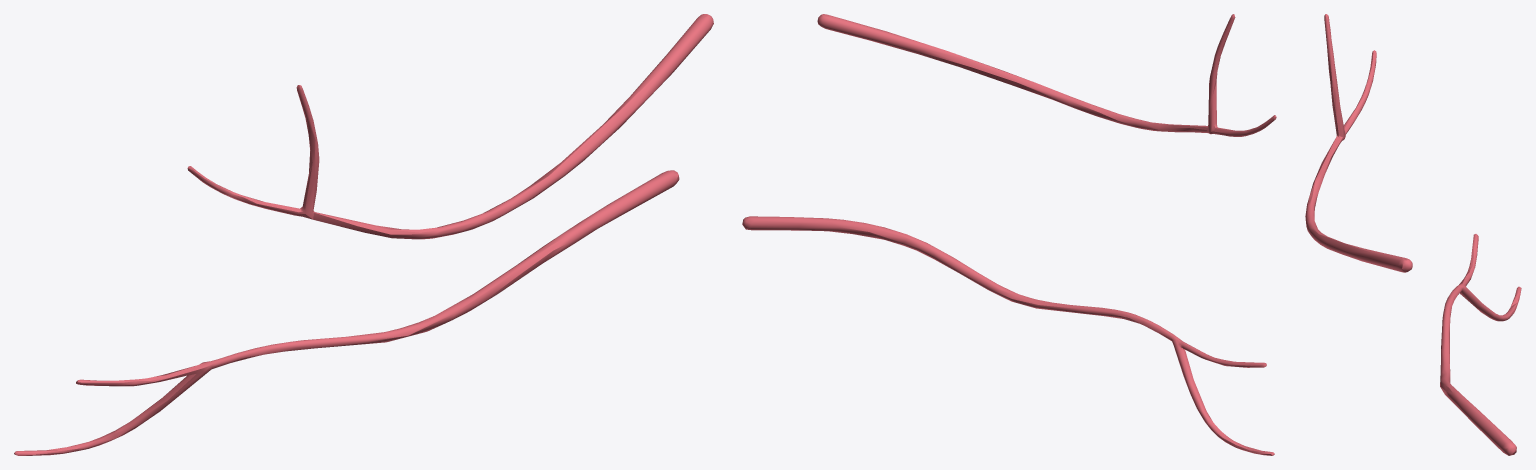
Rendered from fma68109_fj1933.glb.
The picture shows the model from 3 angles, left to right: view 1: azimuth 30°, elevation 25°; view 2: azimuth 150°, elevation 25°; view 3: azimuth 270°, elevation 25°; orthographic projection. The views are drawn at different scales.
Parts seen in each view (by area): view 1: FMA68109_FJ1933; view 2: FMA68109_FJ1933; view 3: FMA68109_FJ1933.
Boxes of the visible parts, left/top/right/bottom form: FMA68109_FJ1933: left=14, top=14, right=713, bottom=455; FMA68109_FJ1933: left=742, top=14, right=1276, bottom=455; FMA68109_FJ1933: left=1305, top=14, right=1521, bottom=455.
Size of the model in its own units: 0.0621 by 0.038 by 0.0215.
